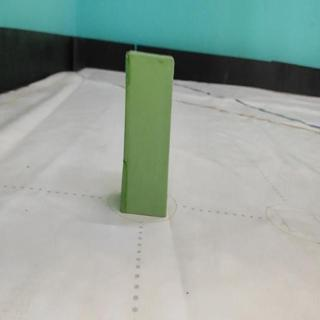greenbox: (121, 47, 175, 219)
